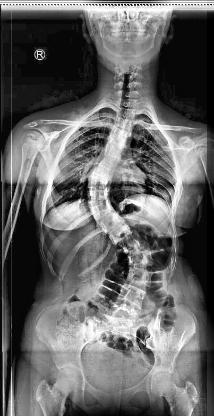Vertebrae: (118, 284, 148, 306), (118, 233, 146, 255), (126, 265, 154, 285), (128, 247, 156, 267), (98, 212, 124, 232), (110, 223, 134, 244), (99, 150, 121, 168), (107, 143, 129, 161), (92, 200, 116, 216), (88, 186, 112, 202), (89, 172, 113, 188), (110, 129, 132, 145), (114, 115, 134, 132), (92, 165, 114, 179), (118, 106, 138, 120), (118, 96, 137, 110)
